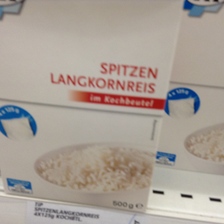rice: (1, 1, 184, 214)
